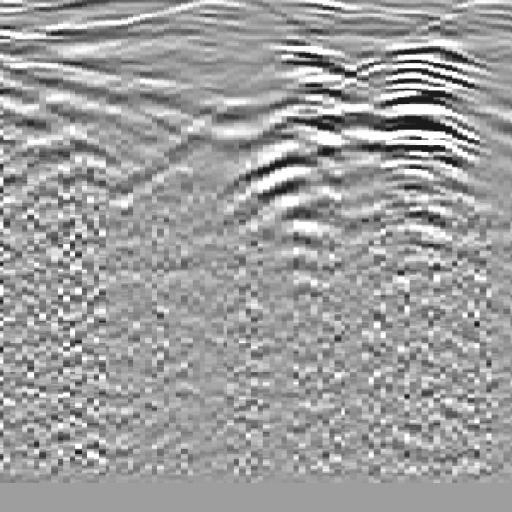metalic: (253, 9, 479, 317)
